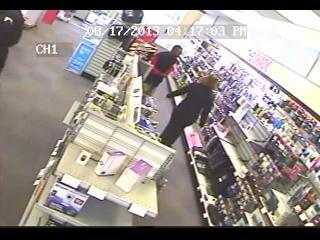Normal: (158, 73, 220, 147), (142, 45, 183, 97), (0, 11, 25, 75)
